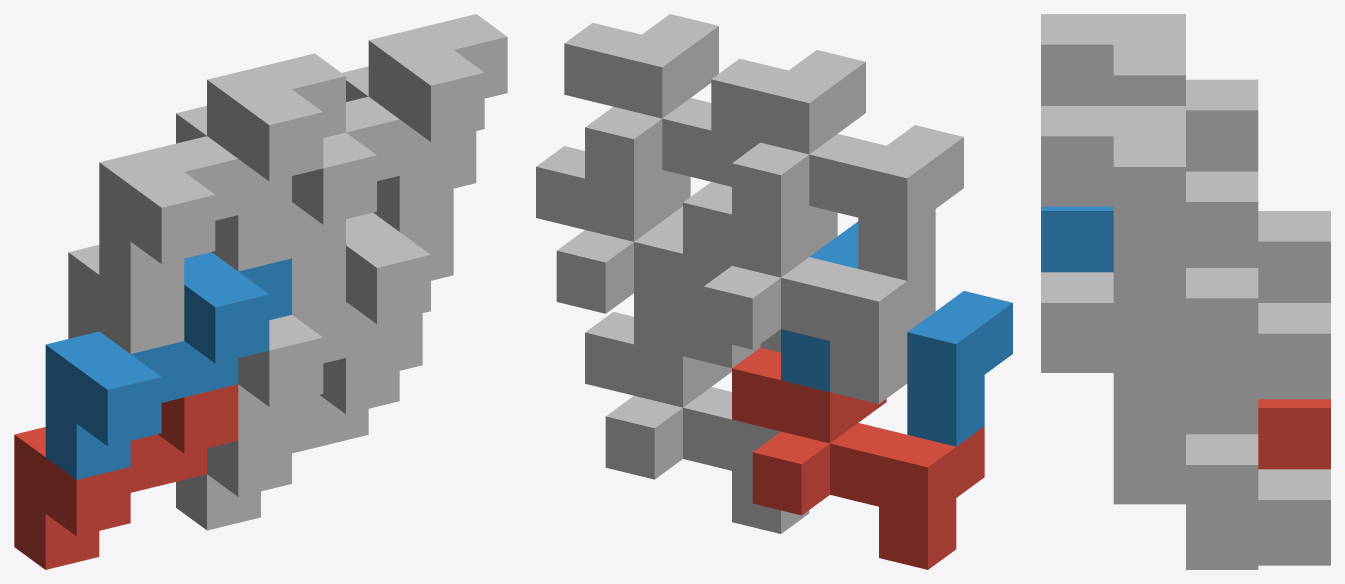
File: tiling.obj
The picture shows the model from 3 angles, left to right: view 1: azimuth 30°, elevation 25°; view 2: azimuth 150°, elevation 25°; view 3: azimuth 270°, elevation 25°; orthographic projection. The views are drawn at different scales.
Visible parts, largest first — view 1: copy_1_domain_4, copy_1_domain_2, copy_1_domain_8, copy_1_domain_6, copy_1_domain_1, copy_1_domain_5, copy_1_domain_3, copy_1_domain_7; view 2: copy_1_domain_4, copy_1_domain_3, copy_1_domain_1, copy_1_domain_8, copy_1_domain_7, copy_1_domain_5, copy_1_domain_2, copy_1_domain_6; view 3: copy_1_domain_8, copy_1_domain_5, copy_1_domain_7, copy_1_domain_4, copy_1_domain_6, copy_1_domain_3, copy_1_domain_1, copy_1_domain_2.
Part boxes in pixels (box(x1,y1,x2,y2)): copy_1_domain_4: box(99, 53, 345, 297); copy_1_domain_2: box(45, 252, 291, 479); copy_1_domain_8: box(292, 14, 507, 258); copy_1_domain_6: box(238, 212, 453, 440); copy_1_domain_1: box(14, 384, 238, 569); copy_1_domain_5: box(176, 313, 422, 530); copy_1_domain_3: box(68, 202, 291, 353); copy_1_domain_7: box(292, 131, 476, 314); copy_1_domain_4: box(711, 50, 963, 280); copy_1_domain_3: box(683, 182, 935, 403); copy_1_domain_1: box(732, 347, 984, 569); copy_1_domain_8: box(564, 14, 759, 190); copy_1_domain_7: box(536, 146, 760, 368); copy_1_domain_5: box(585, 312, 809, 533); copy_1_domain_2: box(781, 221, 1012, 446); copy_1_domain_6: box(634, 206, 780, 356); copy_1_domain_8: box(1041, 106, 1258, 267); copy_1_domain_5: box(1113, 434, 1330, 569); copy_1_domain_7: box(1113, 268, 1330, 399); copy_1_domain_4: box(1041, 14, 1258, 171); copy_1_domain_6: box(1041, 272, 1258, 434); copy_1_domain_3: box(1258, 211, 1330, 302); copy_1_domain_1: box(1258, 399, 1330, 469); copy_1_domain_2: box(1041, 206, 1113, 272).
Bounding box in the file's own units: 8 × 8 × 4.
